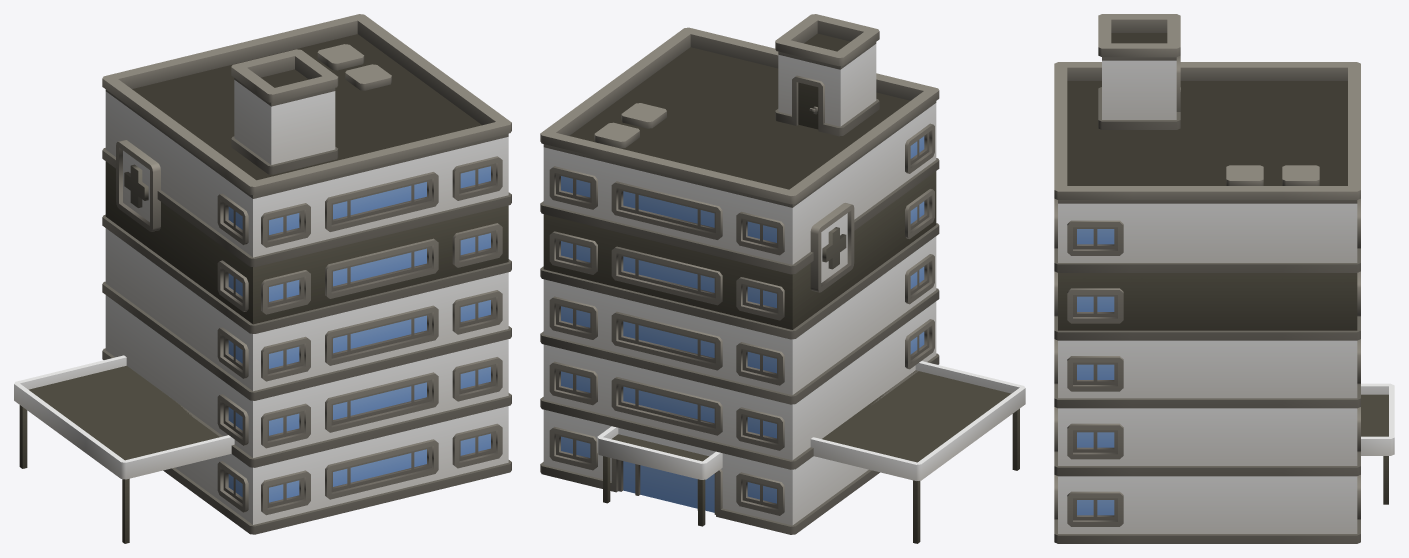
Rendered from com-building-n.glb.
The picture shows the model from 3 angles, left to right: view 1: azimuth 30°, elevation 25°; view 2: azimuth 150°, elevation 25°; view 3: azimuth 270°, elevation 25°; orthographic projection. The views are drawn at different scales.
Visible parts, largest first — view 1: building-n; view 2: building-n; view 3: building-n.
Part boxes in pixels (box(x1,y1,x2,y2)): building-n: box(14, 14, 511, 543); building-n: box(540, 14, 1025, 543); building-n: box(1054, 14, 1394, 543).
Size of the model in its own units: 2.32 by 2.48 by 1.82.
1 material, 1 textured.
